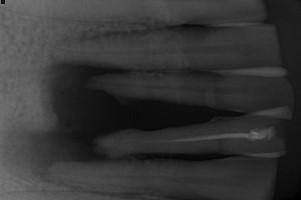Dental Caries: (19, 62, 126, 179)
